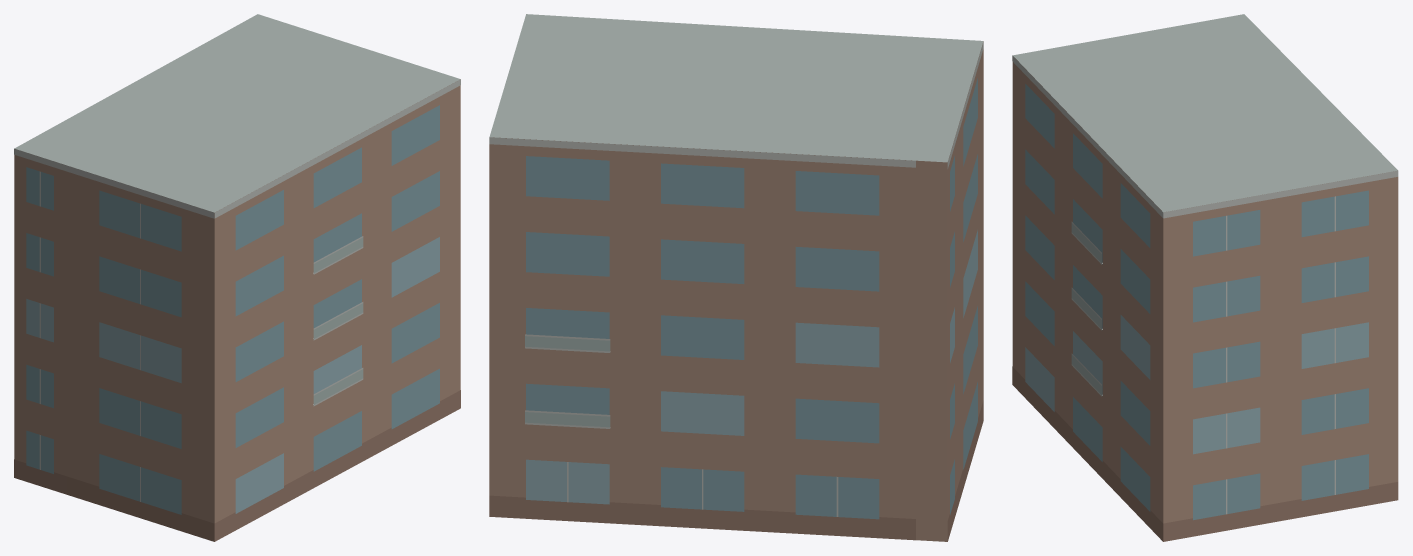
The model's file is survey-upis-32845475.glb.
3 views of the same model, side by side, from view 1: azimuth 30°, elevation 25°; view 2: azimuth 150°, elevation 25°; view 3: azimuth 270°, elevation 25° (orthographic). The views are drawn at different scales.
Parts seen in each view (by area): view 1: survey-upis-32845475.tmp; view 2: survey-upis-32845475.tmp; view 3: survey-upis-32845475.tmp.
Boxes of the visible parts, left/top/right/bottom form: survey-upis-32845475.tmp: left=14, top=14, right=460, bottom=541; survey-upis-32845475.tmp: left=489, top=14, right=983, bottom=541; survey-upis-32845475.tmp: left=1012, top=14, right=1398, bottom=541.
Bounding box in the file's own units: 16.92 × 13.1 × 13.91.
